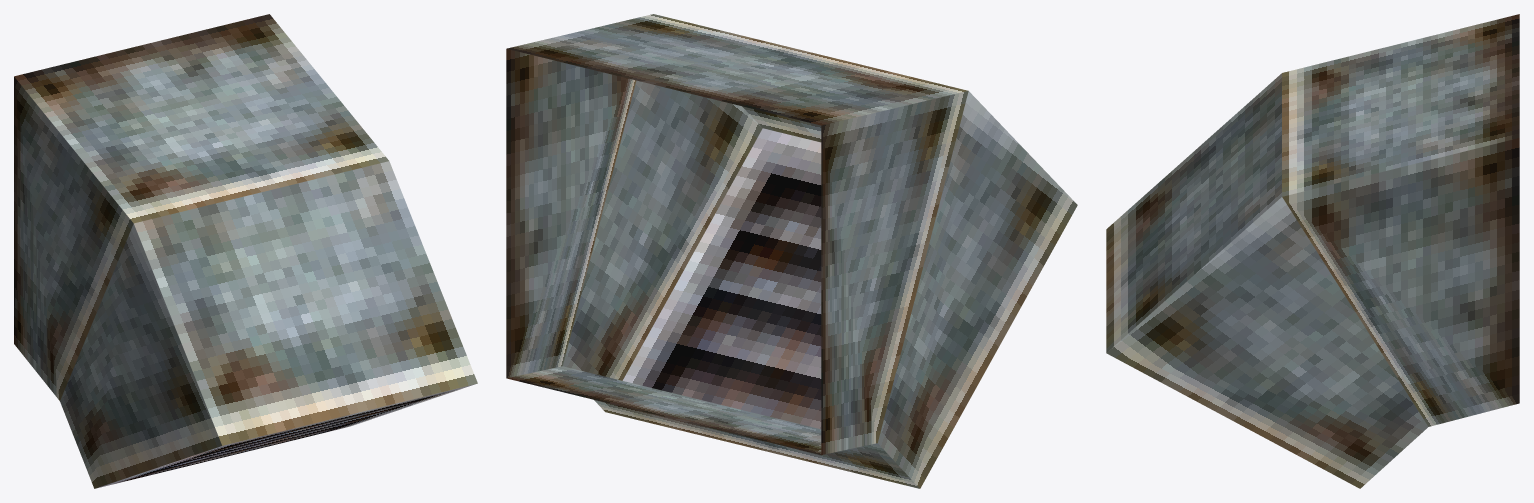
3 renders of one model, left to right at view 1: azimuth 30°, elevation 25°; view 2: azimuth 150°, elevation 25°; view 3: azimuth 270°, elevation 25°, orthographic. The views are drawn at different scales.
Parts seen in each view (by area): view 1: prim225-Torus01; view 2: prim225-Torus01; view 3: prim225-Torus01.
Boxes of the visible parts, x1,y1,x2,y2 form: prim225-Torus01: [14, 14, 477, 488]; prim225-Torus01: [506, 14, 1077, 488]; prim225-Torus01: [1106, 14, 1519, 488].
Size of the model in its own units: 90 by 119 by 127.
2 materials, 2 textured.
